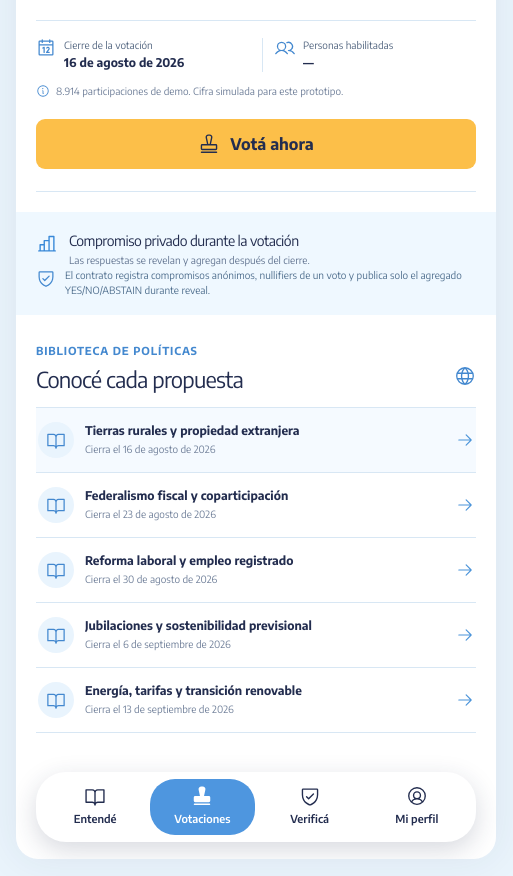
it: App › keeps learning available before identity verification
(page scrolled)
Click the button "Entendé". click: {"x": 95, "y": 807}
box: [43,779,147,835]
(page scrolled)
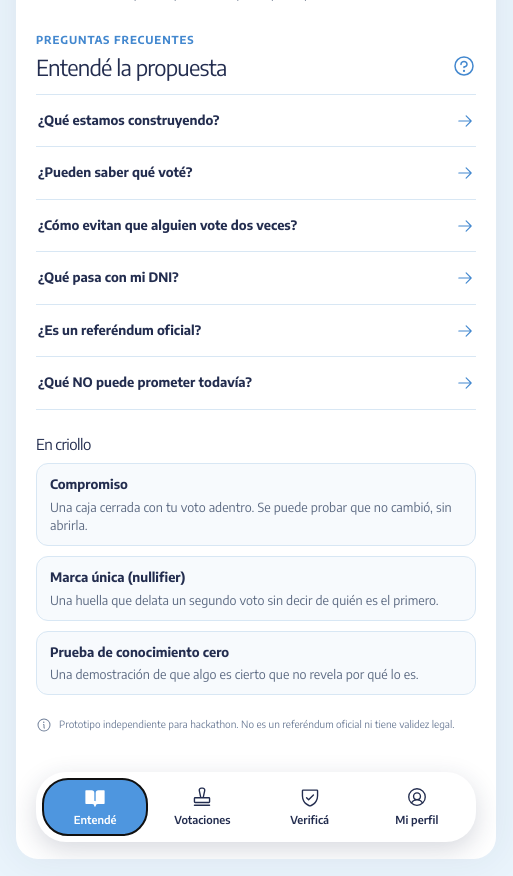
expect the text "¿Qué estamos construyendo?" is shown: met, box [38,111,220,130]
